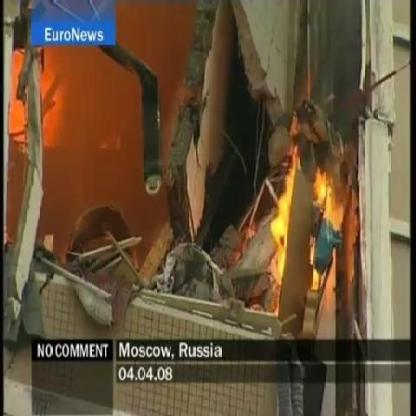fire: (271, 140, 347, 300)
